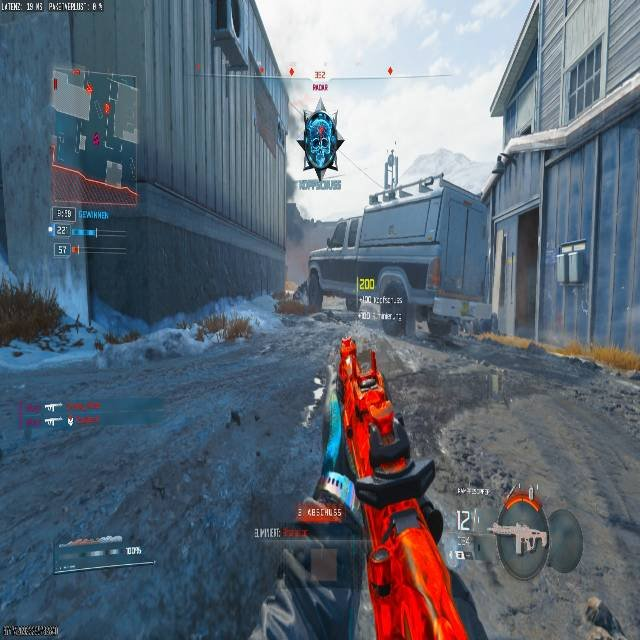head: (340, 338, 356, 358)
player: (297, 108, 342, 181)
